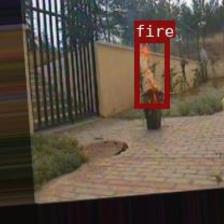fire: (134, 37, 168, 107)
